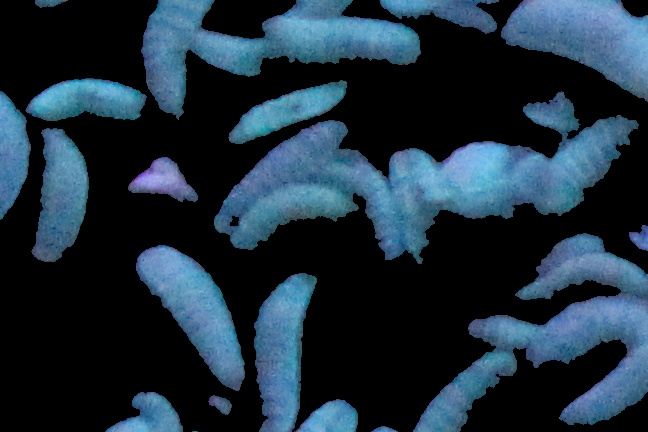larvae: (134, 246, 249, 394), (534, 298, 648, 418), (217, 124, 346, 230), (137, 1, 229, 130), (250, 275, 318, 432), (549, 112, 634, 218), (231, 184, 354, 257), (255, 11, 419, 64), (428, 347, 517, 432), (34, 127, 87, 267), (225, 84, 350, 141), (510, 258, 648, 304), (27, 79, 142, 127), (354, 159, 407, 260), (392, 141, 434, 265), (187, 25, 269, 80), (1, 90, 30, 231), (459, 308, 547, 351), (130, 391, 185, 432), (531, 237, 604, 267)
